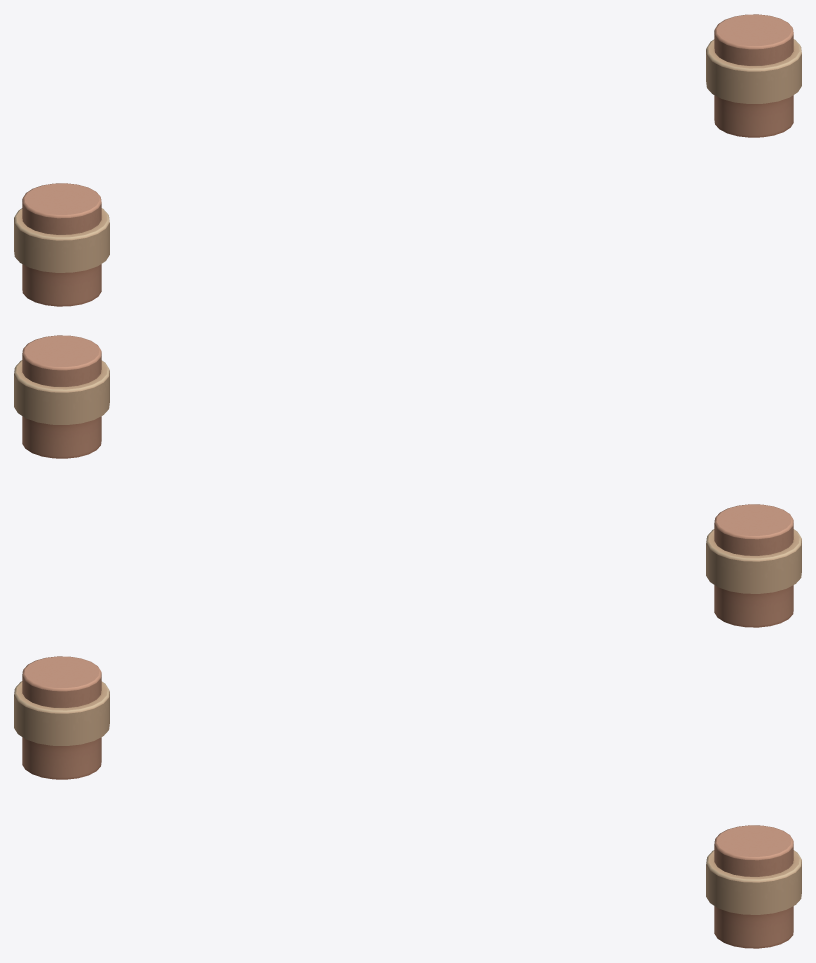
The model's file is Props.fbx.
3 renders of one model, top to bottom at view 1: azimuth 30°, elevation 25°; view 2: azimuth 150°, elevation 25°; view 3: azimuth 330°, elevation 25°, orthographic.
Parts seen in each view (by area): view 1: Cylinder (1), Cylinder; view 2: Cylinder (1), Cylinder; view 3: Cylinder, Cylinder (1).
Boxes of the visible parts, left/top/right/bottom form: Cylinder (1): left=14, top=183, right=109, bottom=306; Cylinder: left=706, top=14, right=801, bottom=137; Cylinder (1): left=706, top=504, right=801, bottom=627; Cylinder: left=14, top=335, right=109, bottom=458; Cylinder: left=706, top=825, right=801, bottom=948; Cylinder (1): left=14, top=656, right=109, bottom=779.
Size of the model in its own units: 44.82 by 5 by 4.82.
